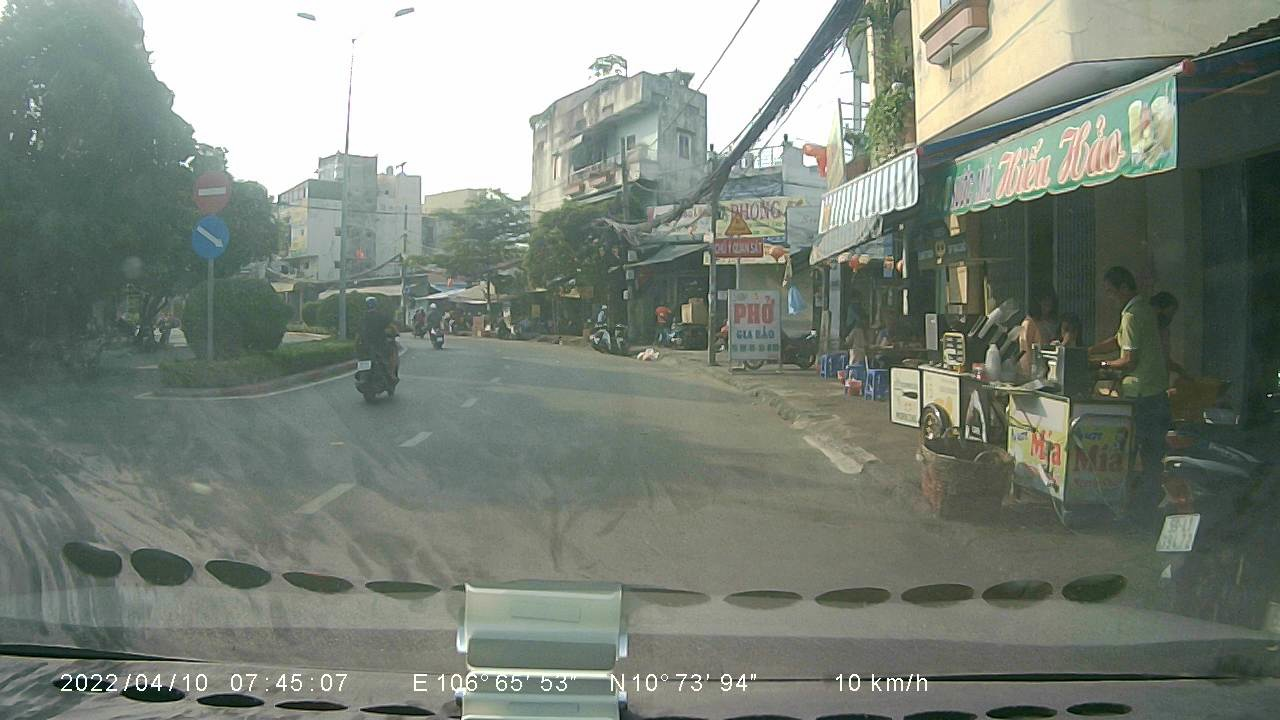Cam di nguoc chieu: (189, 168, 232, 212)
Huong di phai re phai: (186, 213, 233, 263)
